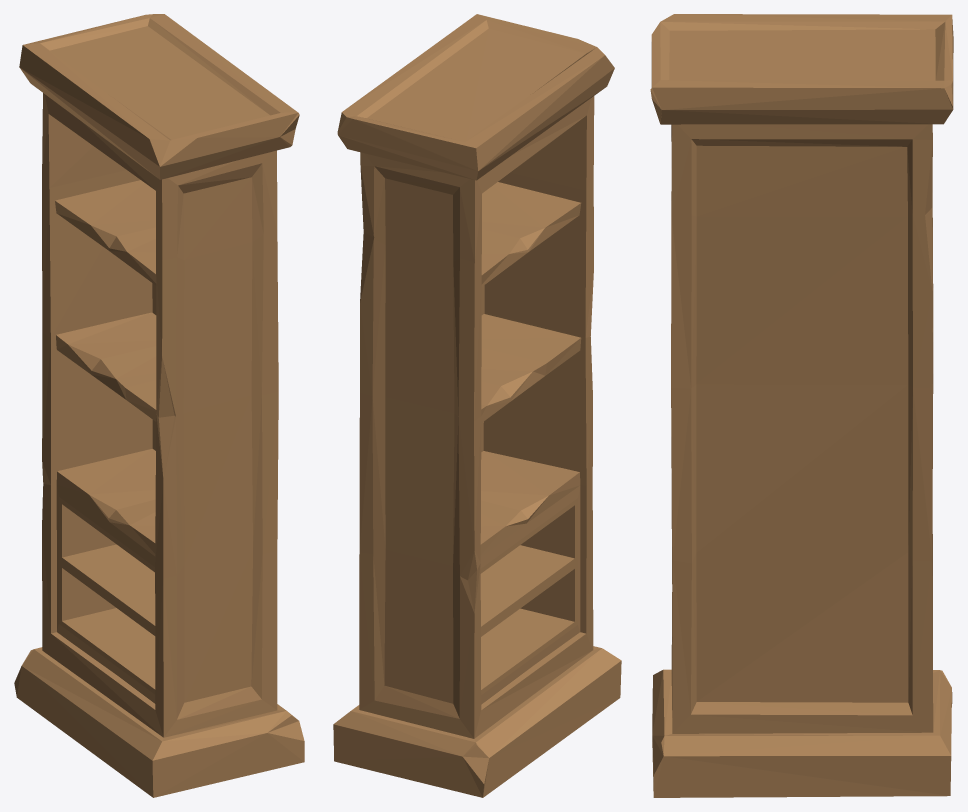
Rendered from SFV_Shelving_003.fbx.
3 views of the same model, side by side, from view 1: azimuth 30°, elevation 25°; view 2: azimuth 150°, elevation 25°; view 3: azimuth 270°, elevation 25° (orthographic). The views are drawn at different scales.
Parts seen in each view (by area): view 1: SFV_Shelving_003; view 2: SFV_Shelving_003; view 3: SFV_Shelving_003.
Boxes of the visible parts, <box> form: SFV_Shelving_003: <box>14,14,304,797</box>; SFV_Shelving_003: <box>333,14,621,797</box>; SFV_Shelving_003: <box>650,14,953,797</box>.
Bounding box in the file's own units: 50.12 × 205 × 79.43.
